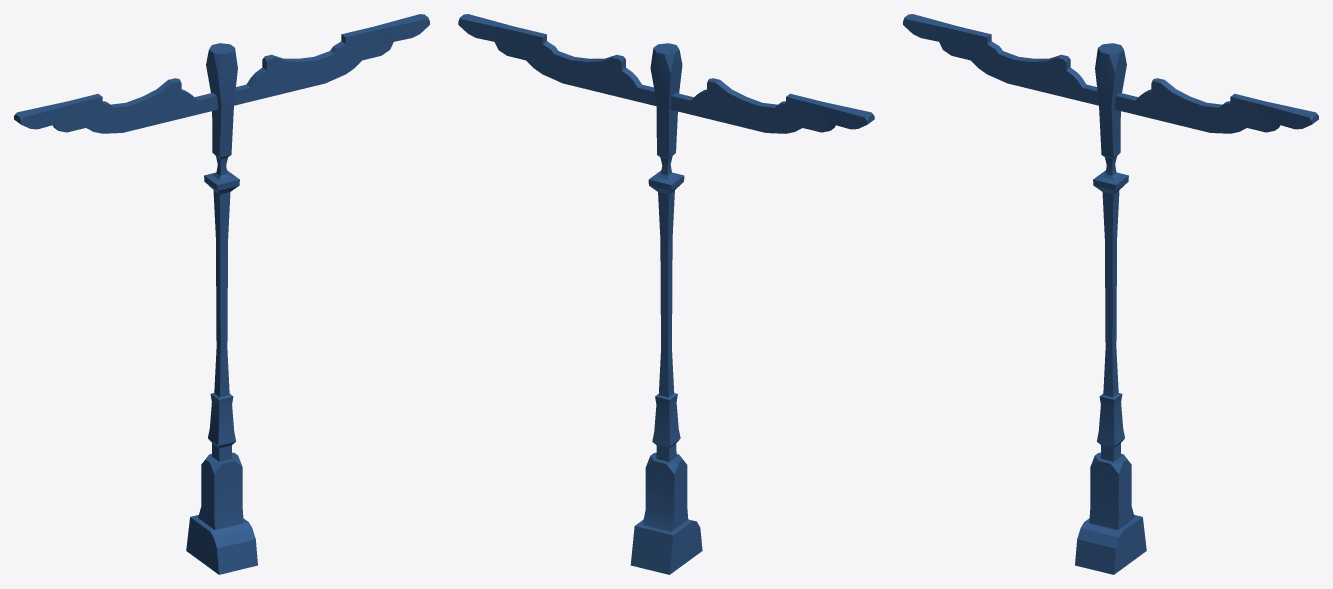
File: OBJ_FLAG_B_03.FBX
The picture shows the model from 3 angles, left to right: view 1: azimuth 30°, elevation 25°; view 2: azimuth 150°, elevation 25°; view 3: azimuth 330°, elevation 25°; orthographic projection.
Visible parts, largest first — view 1: OBJ_FLAG_B_03; view 2: OBJ_FLAG_B_03; view 3: OBJ_FLAG_B_03.
Part boxes in pixels (<box>): OBJ_FLAG_B_03: <box>14,14,429,574</box>; OBJ_FLAG_B_03: <box>458,14,874,574</box>; OBJ_FLAG_B_03: <box>903,14,1318,574</box>.
Bounding box in the file's own units: 24.2 × 28.82 × 3.37.
